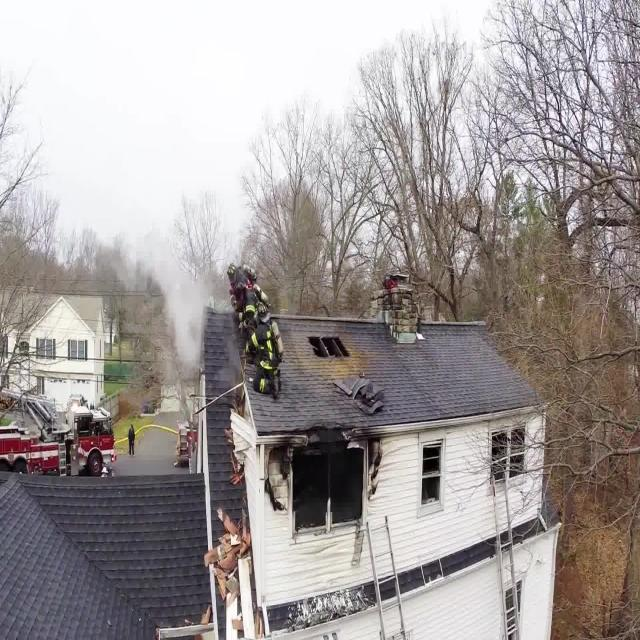Smoke: (146, 230, 217, 366)
